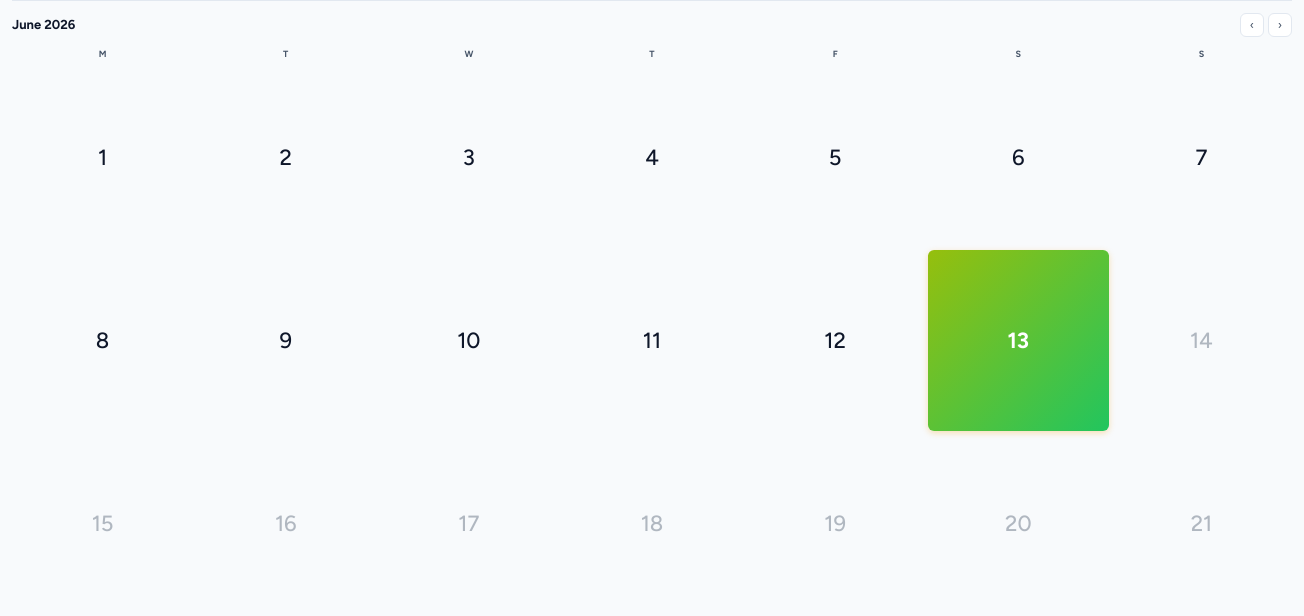
Scenario: MiniCalendar › disables future dates when activeType is brand (default)
What coordinates should you click on to do the following:
click the button named "next month"
I would click on:
 (1280, 25)
Its box is [1268,13,1292,37].
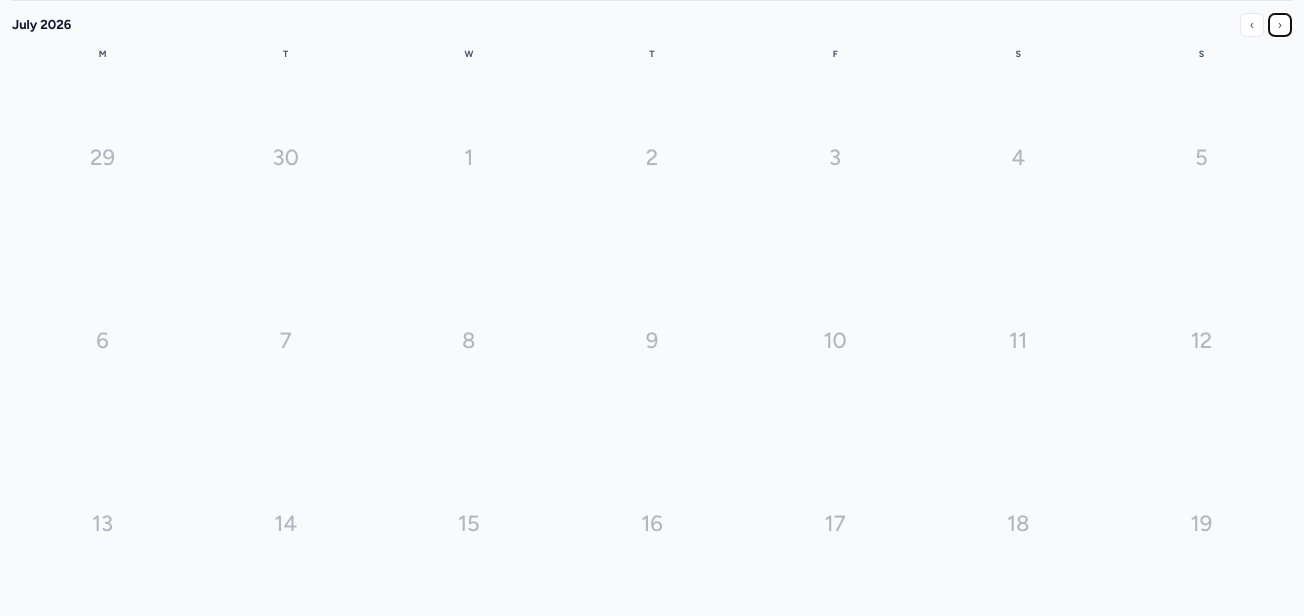
expect the button "15" is disabled: met, box [378,433,559,614]
